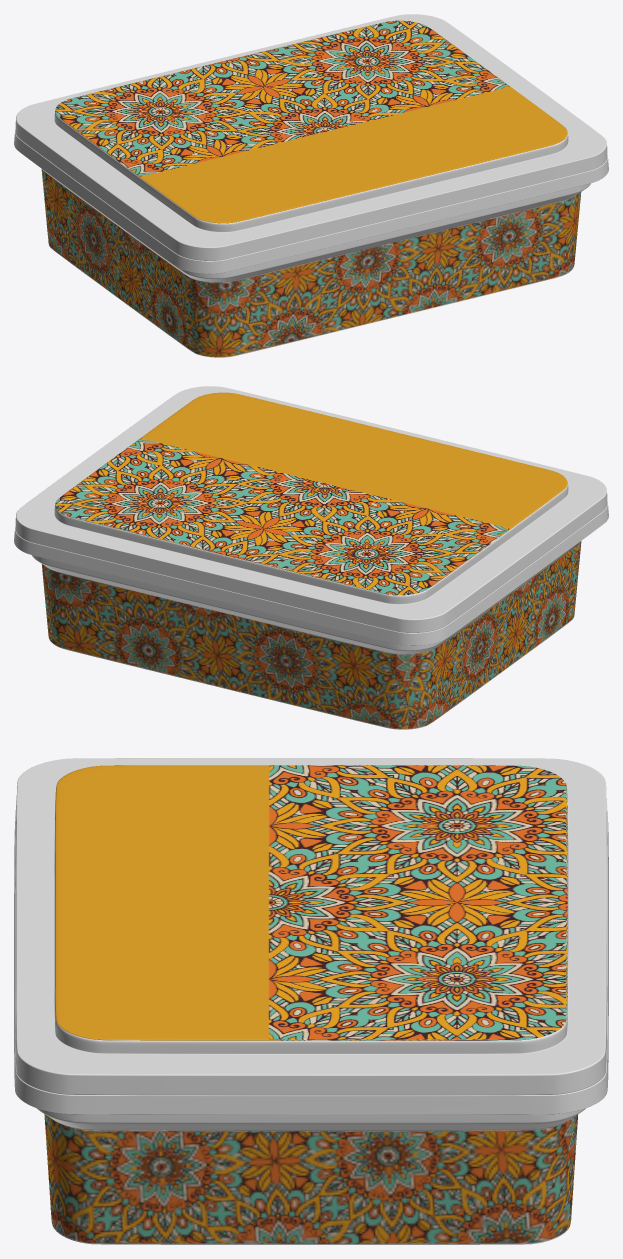
File: 250gms2.glb
3 renders of one model, top to bottom at view 1: azimuth 30°, elevation 25°; view 2: azimuth 150°, elevation 25°; view 3: azimuth 270°, elevation 25°, orthographic. The views are drawn at different scales.
Visible parts, largest first — view 1: Plane.007, Label, Plane.006, Plane; view 2: Plane.007, Label, Plane.006, Plane; view 3: Plane.007, Plane.006, Label, Plane.
Part boxes in pixels (x1=…): Plane.007: x1=55, y1=20, x2=567, y2=223; Label: x1=41, y1=169, x2=581, y2=356; Plane.006: x1=14, y1=14, x2=608, y2=273; Plane: x1=42, y1=169, x2=590, y2=357; Plane.007: x1=55, y1=392, x2=567, y2=595; Label: x1=41, y1=541, x2=581, y2=728; Plane.006: x1=14, y1=386, x2=608, y2=645; Plane: x1=32, y1=541, x2=580, y2=729; Plane.007: x1=55, y1=765, x2=567, y2=1040; Plane.006: x1=14, y1=758, x2=608, y2=1114; Label: x1=44, y1=1114, x2=578, y2=1243; Plane: x1=36, y1=1108, x2=585, y2=1244.
Size of the model in its own units: 0.1495 by 0.0441 by 0.1177.
7 materials, 3 textured.
